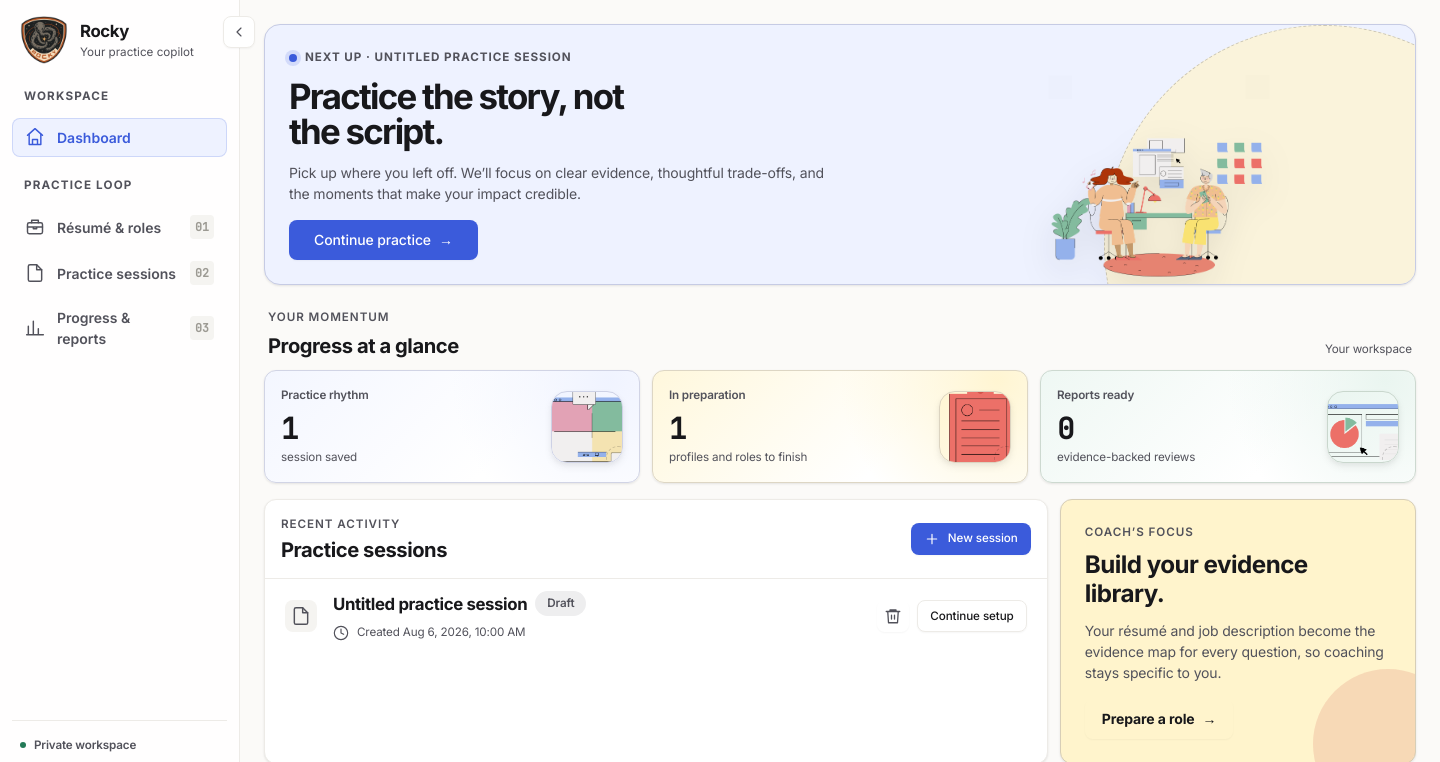
Test: session dashboard › renames a practice session from the setup header
Click the button "Continue setup": (972, 616) [917,600,1027,632]
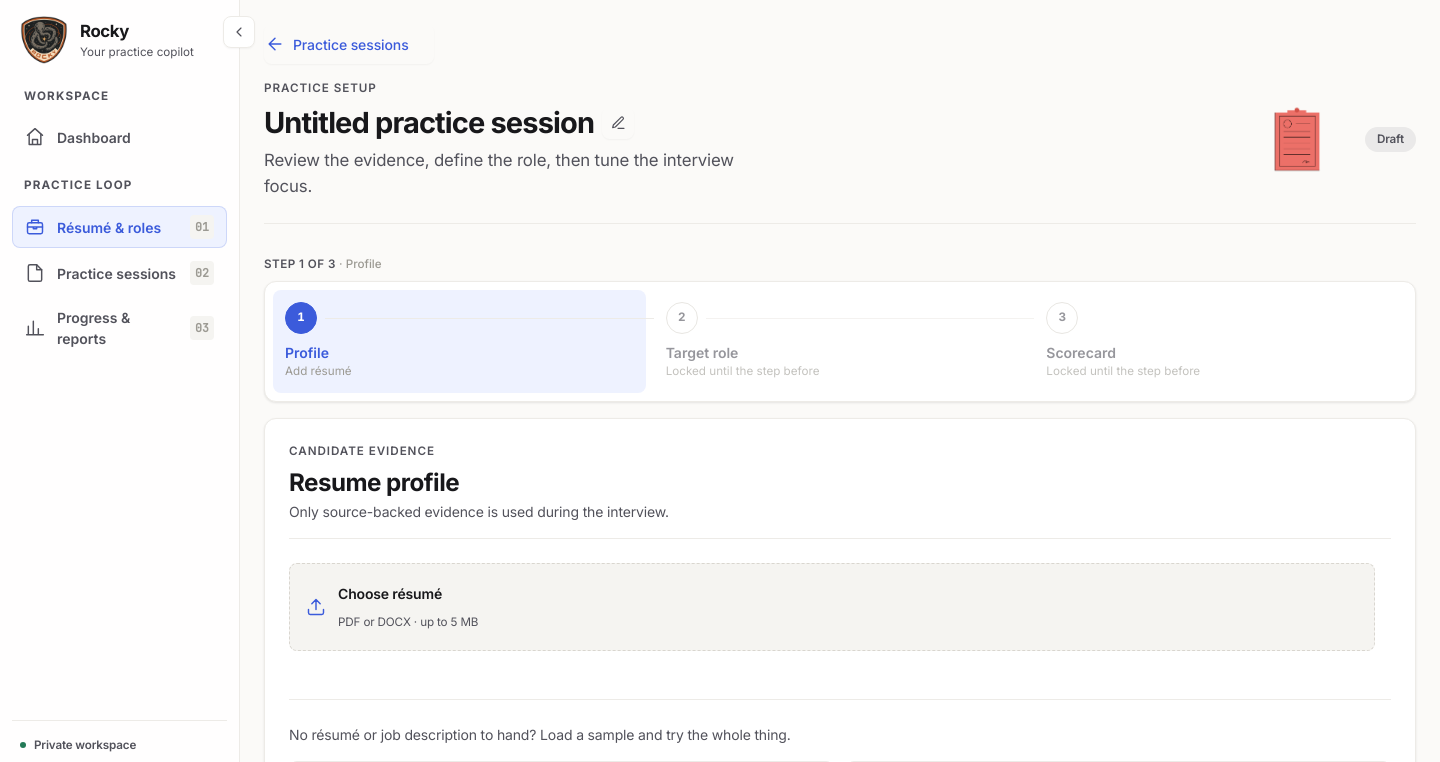
Now the heading "Resume profile" is shown, box [289,468,459,497]
Click the button named "Edit session name": (618, 123) [602,107,634,139]
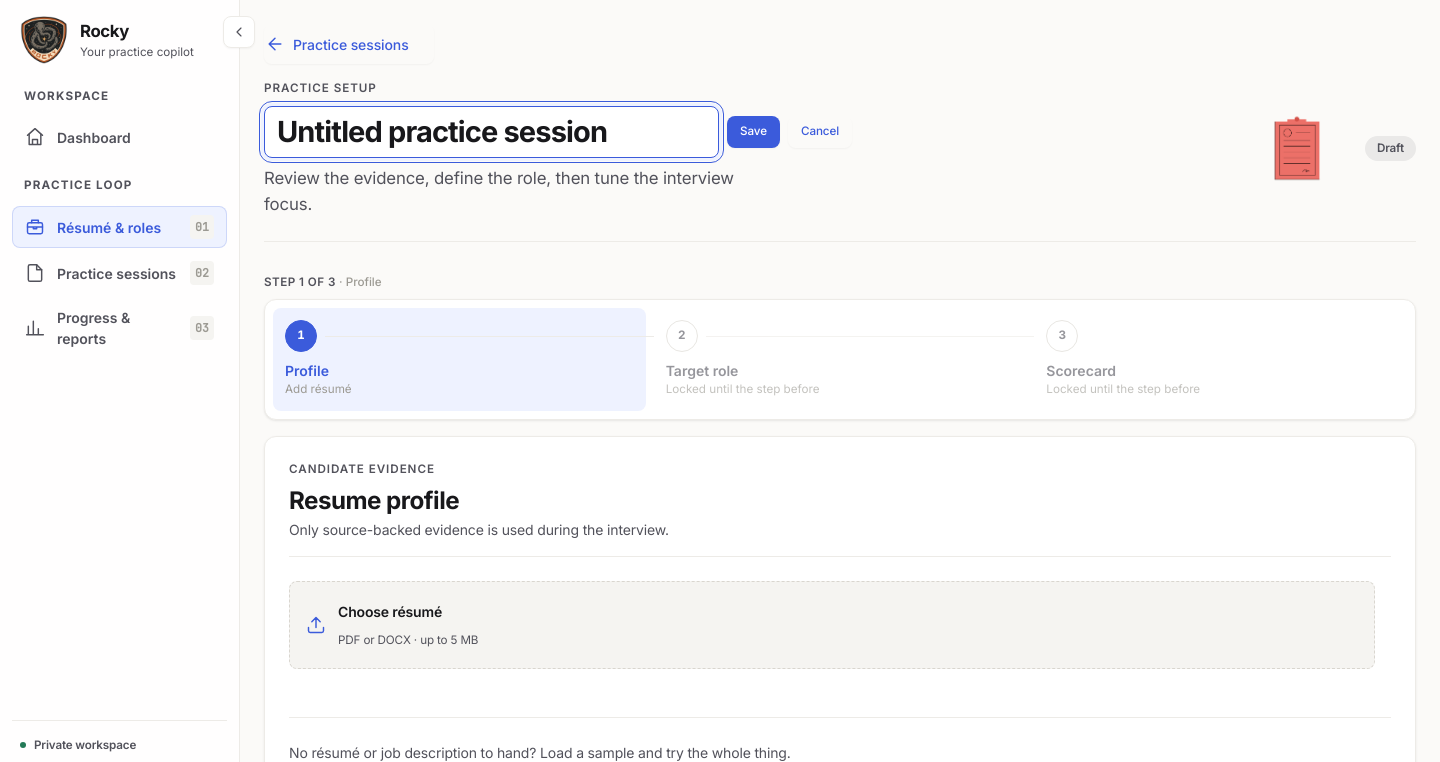
Replace the text in the field named "Session name" with "Platform leadership rehearsal": (492, 132) [264,106,719,158]
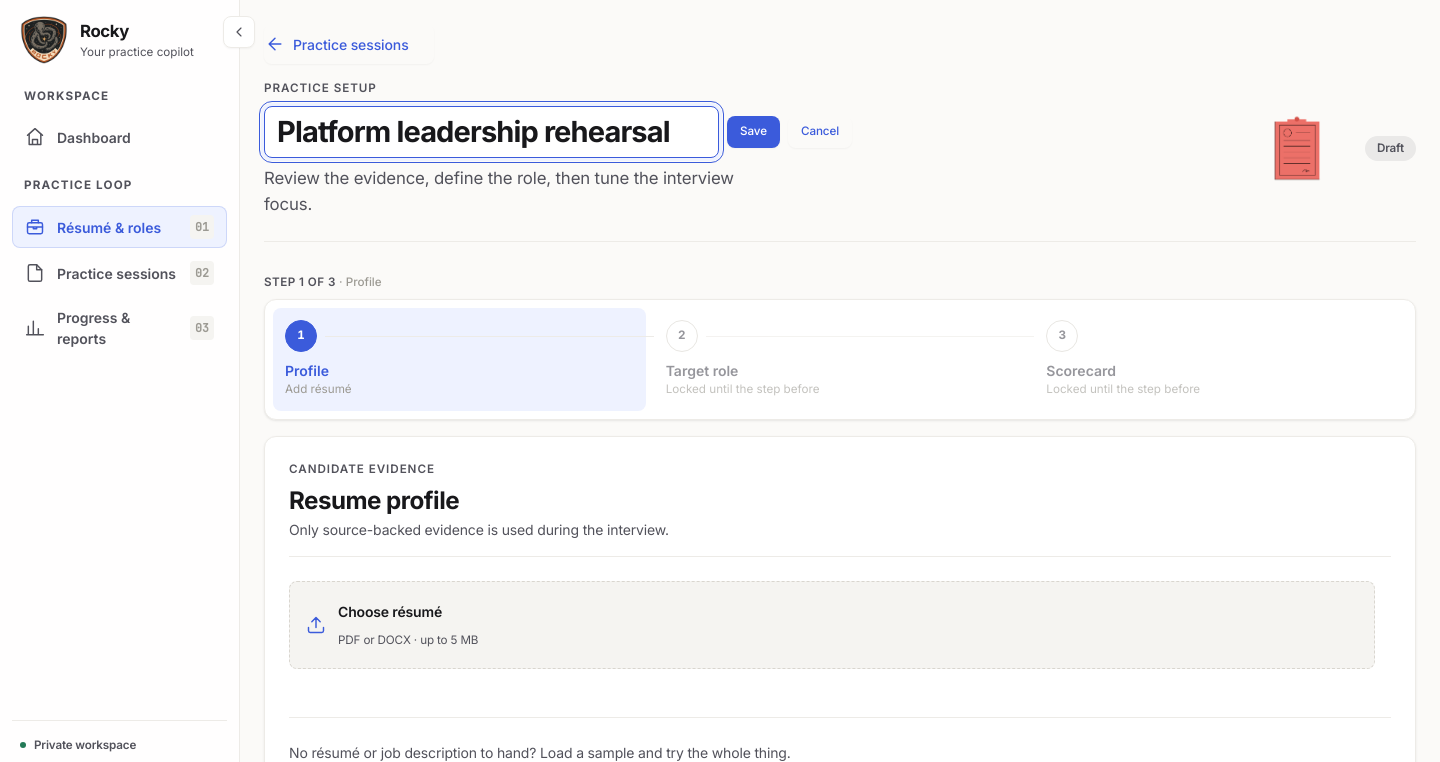
Click the button "Save": (753, 132) [727,116,780,148]
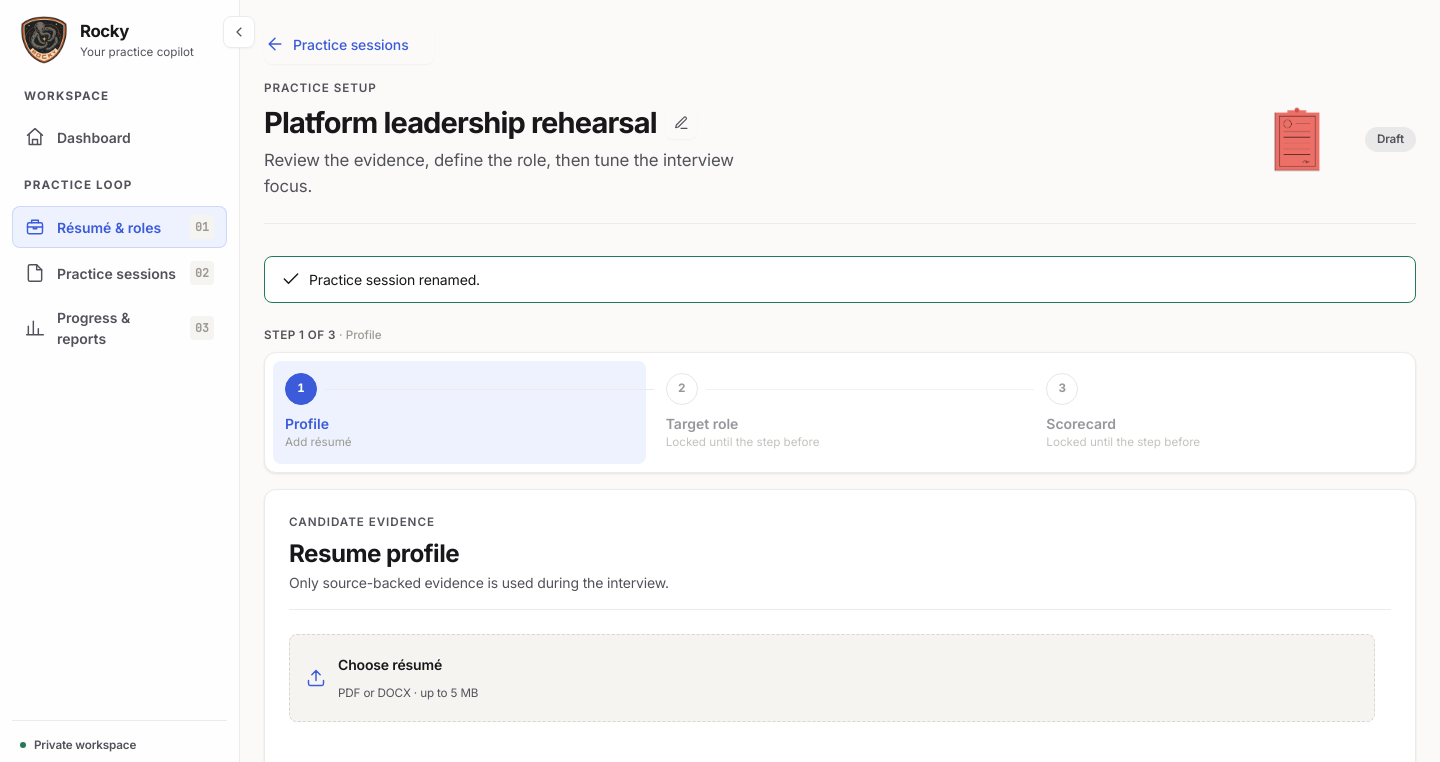
Now the heading "Platform leadership rehearsal" is shown, box [264,106,657,140]
